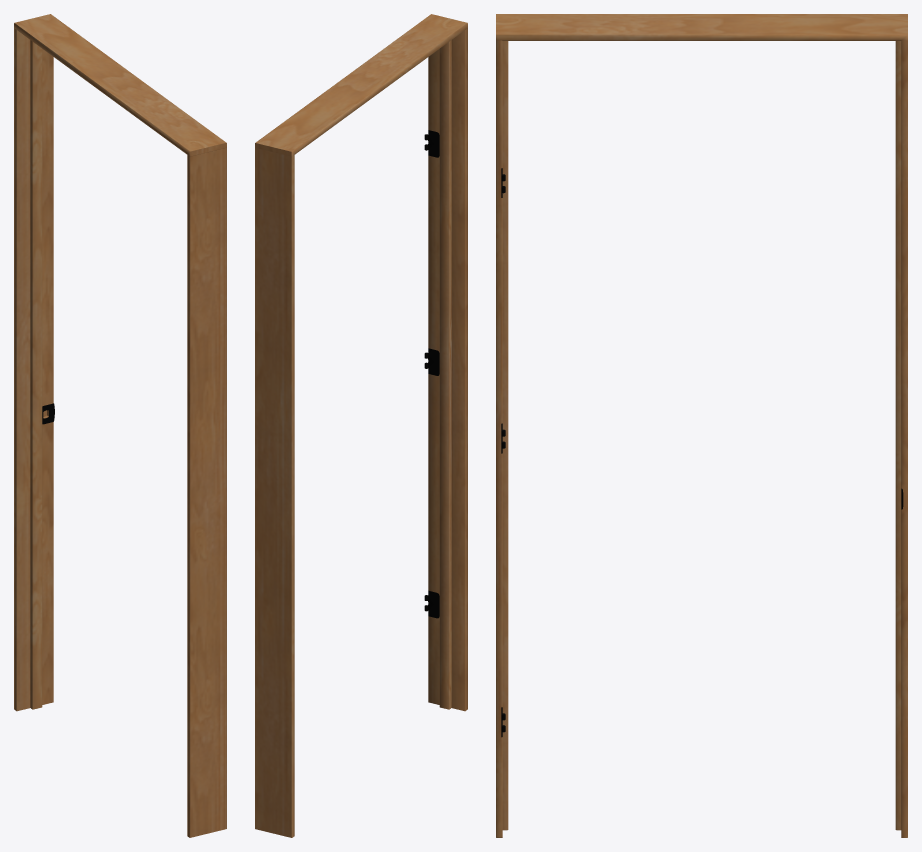
Rendered from visual_Door_right_frame_zero_panel_wood_light.dae.
3 renders of one model, left to right at view 1: azimuth 30°, elevation 25°; view 2: azimuth 150°, elevation 25°; view 3: azimuth 270°, elevation 25°, orthographic. The views are drawn at different scales.
Visible parts, largest first — view 1: visual_Door_right_frame_zero_panel_wood_light; view 2: visual_Door_right_frame_zero_panel_wood_light; view 3: visual_Door_right_frame_zero_panel_wood_light.
Boxes of the visible parts, x1,y1,x2,y2 form: visual_Door_right_frame_zero_panel_wood_light: (14,14,226,837); visual_Door_right_frame_zero_panel_wood_light: (255,14,467,837); visual_Door_right_frame_zero_panel_wood_light: (496,14,907,837).
Bounding box in the file's own units: 0.1248 × 0.9521 × 2.05.
1 material, 1 textured.
